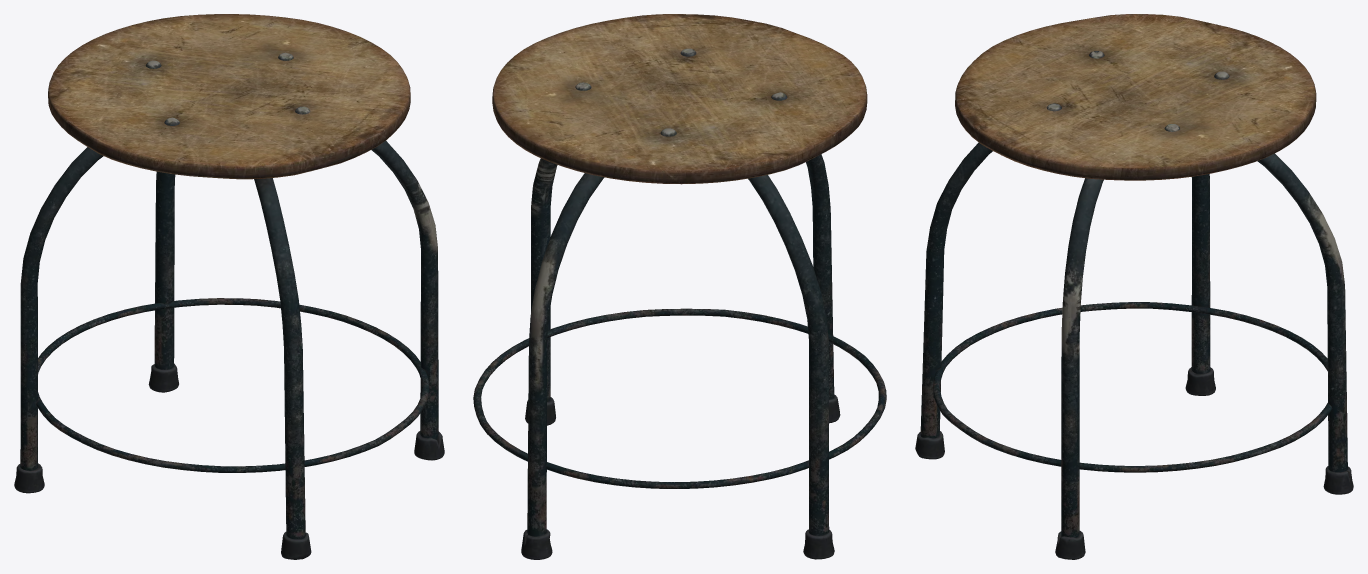
File: stool_pocha.glb
3 views of the same model, side by side, from view 1: azimuth 30°, elevation 25°; view 2: azimuth 150°, elevation 25°; view 3: azimuth 270°, elevation 25° (orthographic). The views are drawn at different scales.
Visible parts, largest first — view 1: metal_stool_02; view 2: metal_stool_02; view 3: metal_stool_02.
Boxes of the visible parts, <box> form: metal_stool_02: <box>14,14,444,559</box>; metal_stool_02: <box>473,14,886,559</box>; metal_stool_02: <box>915,14,1353,559</box>.
Bounding box in the file's own units: 0.4481 × 0.4581 × 0.4731.
Materials: 1 (1 with a texture image).
